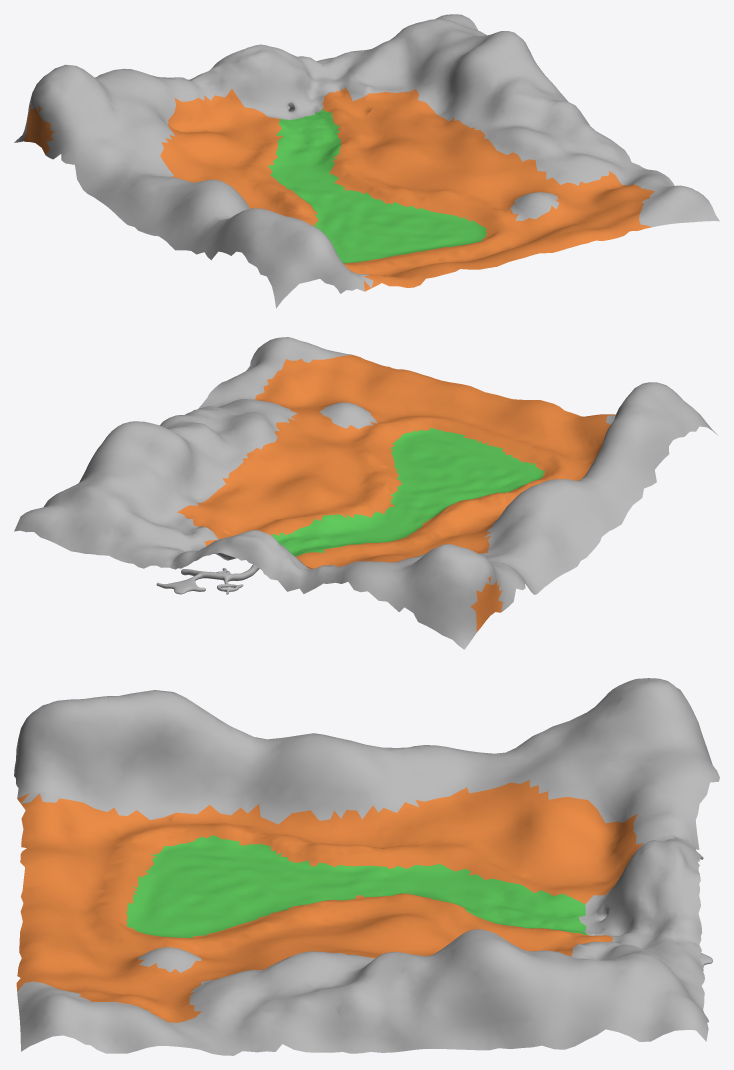
The model's file is Mine1 Version 3.fbx.
The picture shows the model from 3 angles, top to bottom: view 1: azimuth 30°, elevation 25°; view 2: azimuth 150°, elevation 25°; view 3: azimuth 270°, elevation 25°; orthographic projection. The views are drawn at different scales.
Parts seen in each view (by area): view 1: Ground.001; view 2: Ground.001, Ground.000; view 3: Ground.001.
Boxes of the visible parts, x1,y1,x2,y2 form: Ground.001: (14,14,719,308); Ground.001: (14,337,718,649); Ground.000: (156,564,259,594); Ground.001: (14,678,719,1055).
Size of the model in its own units: 45442 by 9113 by 46240.
